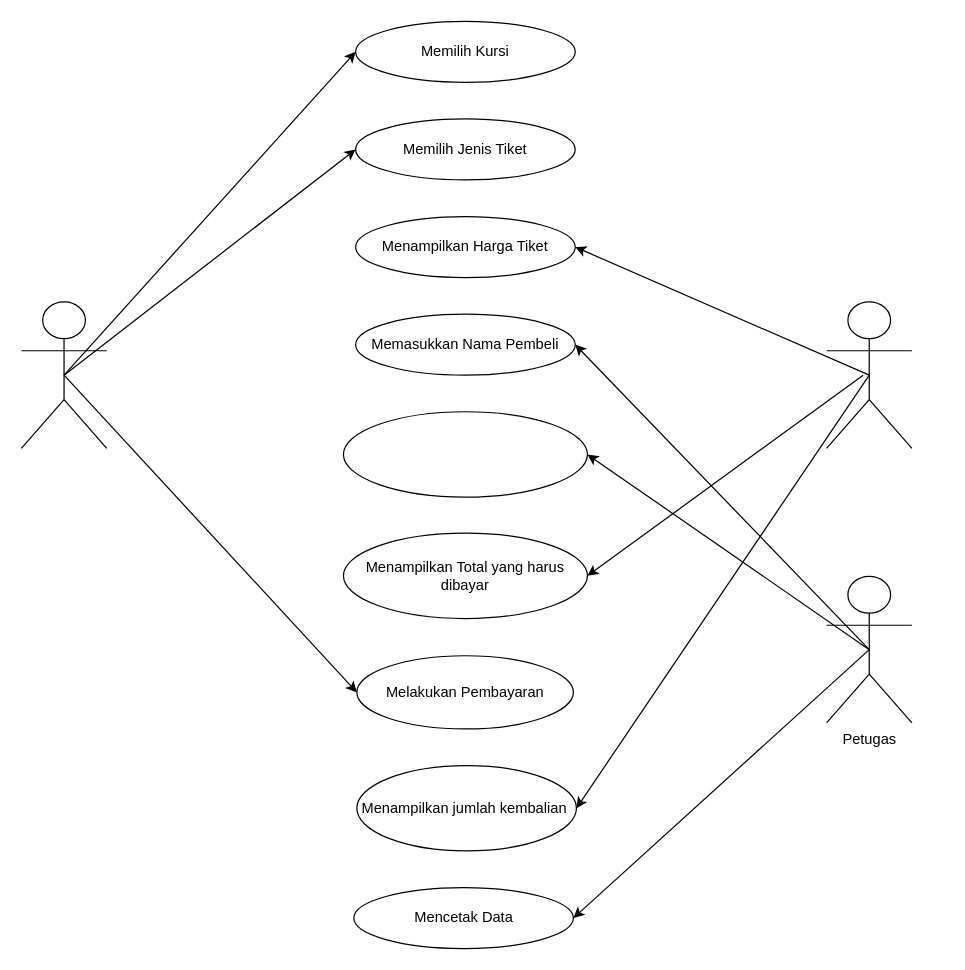
This 965x970 diagram has some shape labels left out. The shapes that lost their labels are listed below. From the top down, each one's centre as x and y in pixels, then its label:
At (x=63, y=374): "Pembeli".
At (x=868, y=374): "Sistem Penjualan Tiket".
At (x=464, y=454): "Memasukkan Jumlah Tiket yang dibeli".
